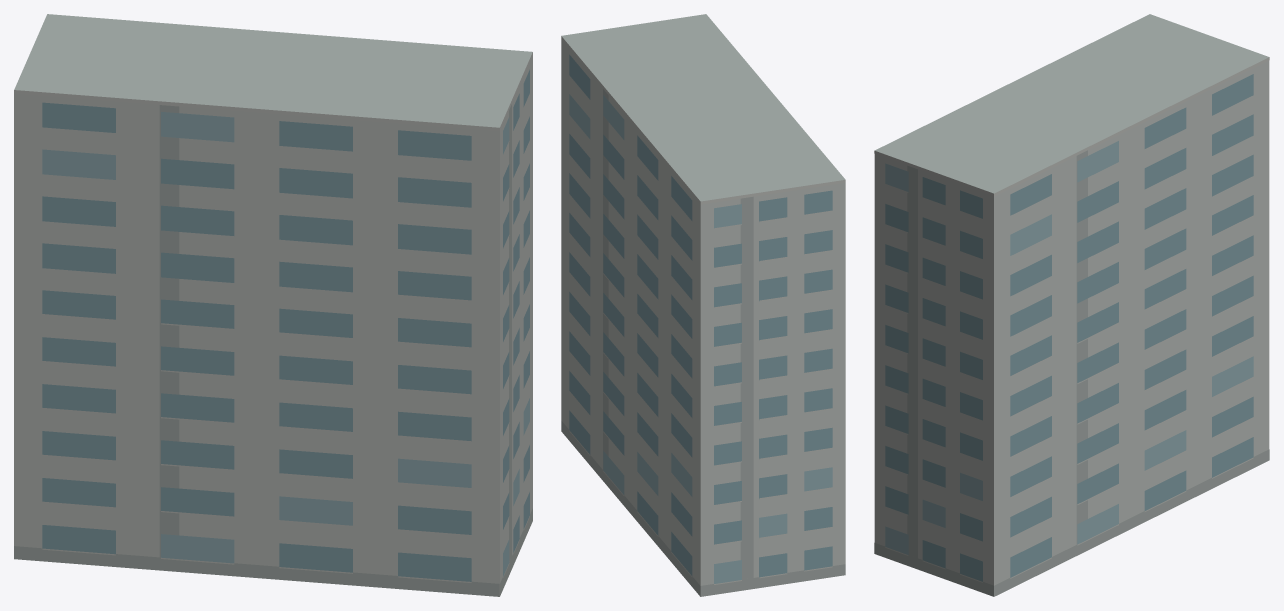
Rendered from residential-92c78901-aa98-4392-9c53-fe85ce7e459b.glb.
3 views of the same model, side by side, from view 1: azimuth 30°, elevation 25°; view 2: azimuth 150°, elevation 25°; view 3: azimuth 270°, elevation 25° (orthographic). The views are drawn at different scales.
Visible parts, largest first — view 1: residential-92c78901-aa98-4392-9c53-fe85ce7e459b.tmp; view 2: residential-92c78901-aa98-4392-9c53-fe85ce7e459b.tmp; view 3: residential-92c78901-aa98-4392-9c53-fe85ce7e459b.tmp.
Part boxes in pixels (box(x1,y1,x2,y2)): residential-92c78901-aa98-4392-9c53-fe85ce7e459b.tmp: box(14, 14, 532, 596); residential-92c78901-aa98-4392-9c53-fe85ce7e459b.tmp: box(561, 14, 845, 596); residential-92c78901-aa98-4392-9c53-fe85ce7e459b.tmp: box(874, 14, 1269, 596).
Bounding box in the file's own units: 29.61 × 31 × 27.52.
